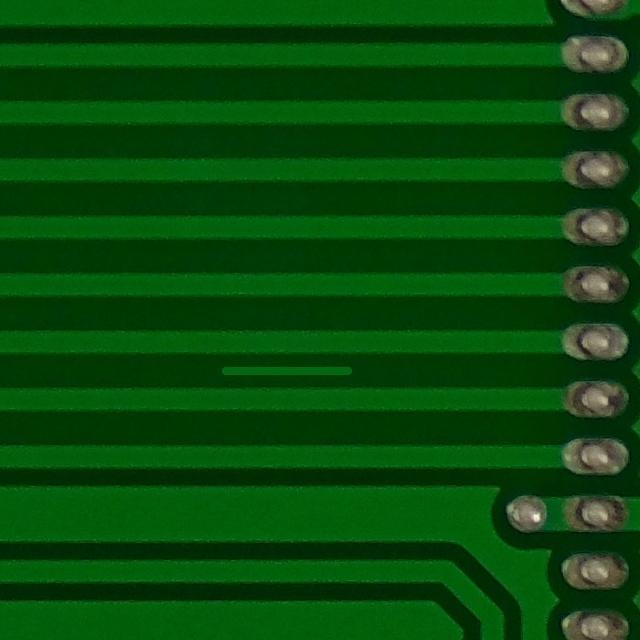spurious_copper: (205, 352, 366, 395)
